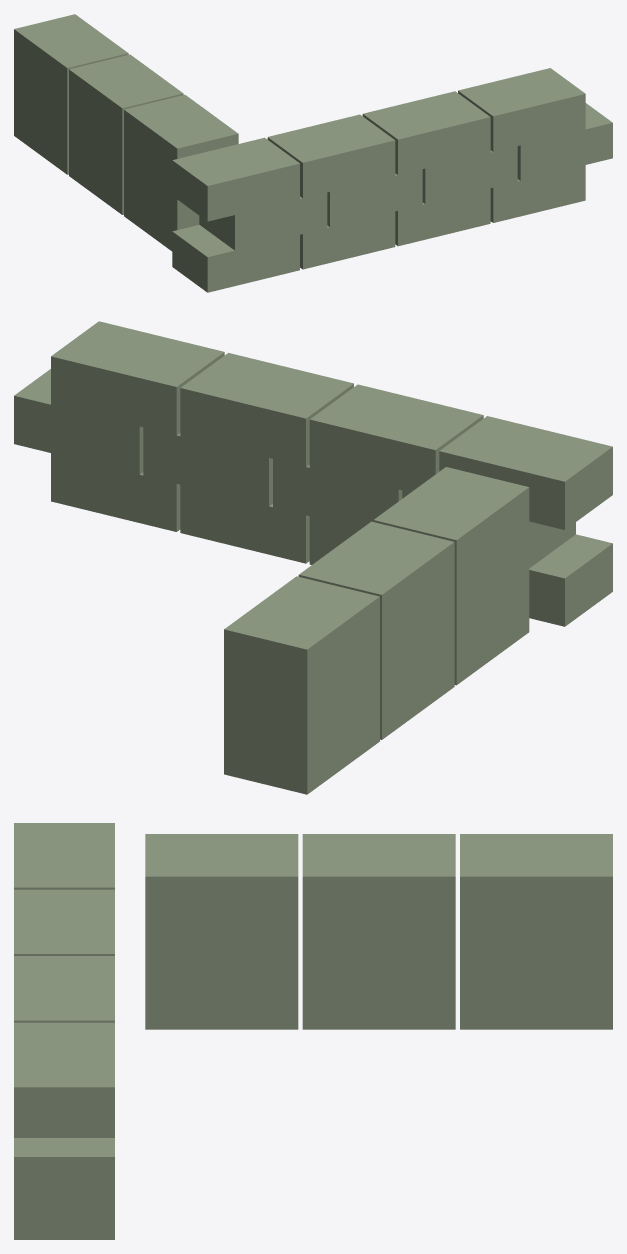
The model's file is zombie-quarantine-streets-sandbag-corner-f46aa6e4__19332.glb.
The picture shows the model from 3 angles, top to bottom: view 1: azimuth 30°, elevation 25°; view 2: azimuth 150°, elevation 25°; view 3: azimuth 270°, elevation 25°; orthographic projection. The views are drawn at different scales.
Visible parts, largest first — view 1: sandbag-corner; view 2: sandbag-corner; view 3: sandbag-corner.
Boxes of the visible parts, bbox=[...] form: sandbag-corner: bbox=[14, 14, 612, 292]; sandbag-corner: bbox=[14, 321, 612, 794]; sandbag-corner: bbox=[14, 823, 612, 1239].
Bounding box in the file's own units: 2.98 × 0.7498 × 2.66.
